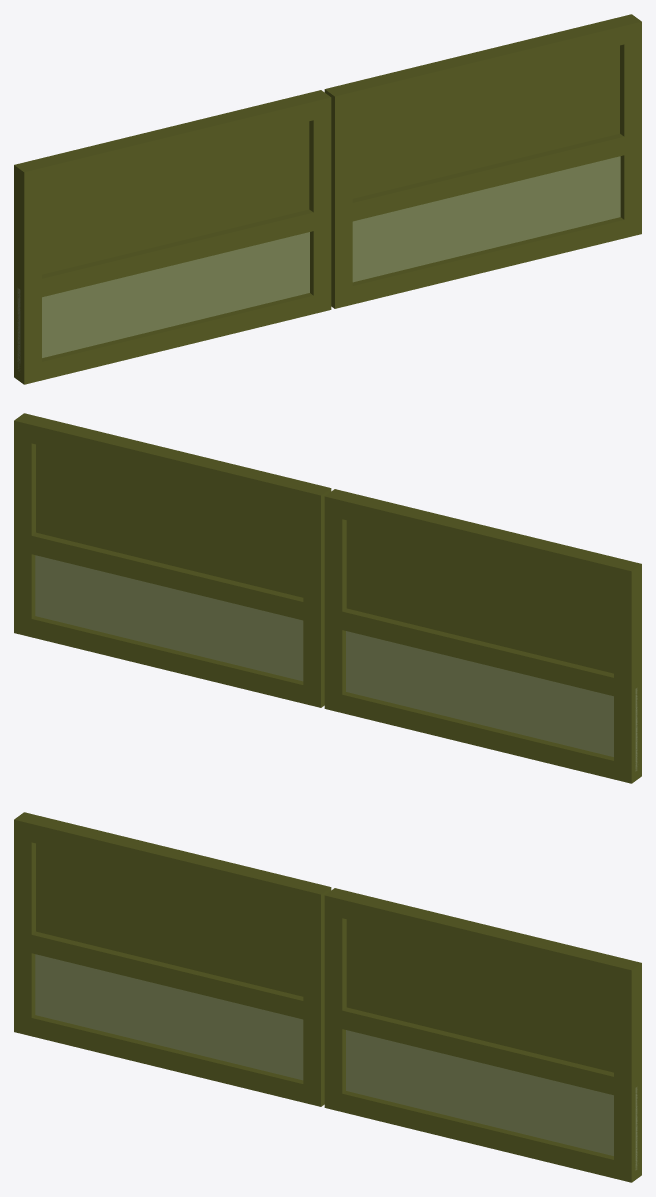
Rendered from SM_PuertaValla_v0_LOD1.fbx.
The picture shows the model from 3 angles, top to bottom: view 1: azimuth 30°, elevation 25°; view 2: azimuth 150°, elevation 25°; view 3: azimuth 330°, elevation 25°; orthographic projection.
Visible parts, largest first — view 1: Hoja_O, Hoja_E; view 2: Hoja_O, Hoja_E; view 3: Hoja_E, Hoja_O.
Boxes of the visible parts, box(x1,y1,x2,y2) form: Hoja_O: box(14, 90, 331, 384); Hoja_E: box(324, 14, 641, 308); Hoja_O: box(324, 489, 641, 783); Hoja_E: box(14, 413, 331, 707); Hoja_E: box(324, 888, 641, 1182); Hoja_O: box(14, 812, 331, 1106).
Size of what is drawn, in the model's own units: 7 by 2.3 by 0.2.
